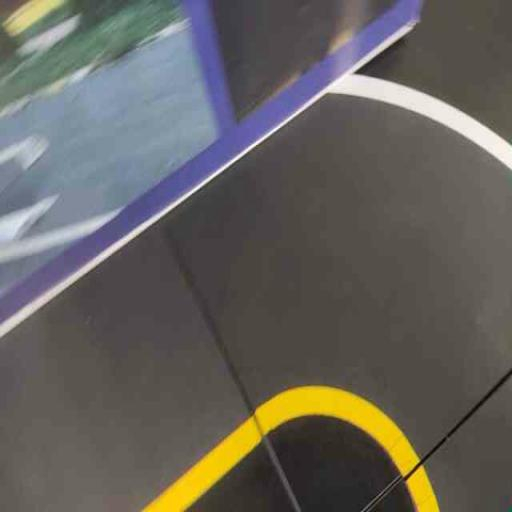left: (158, 76, 511, 511)
